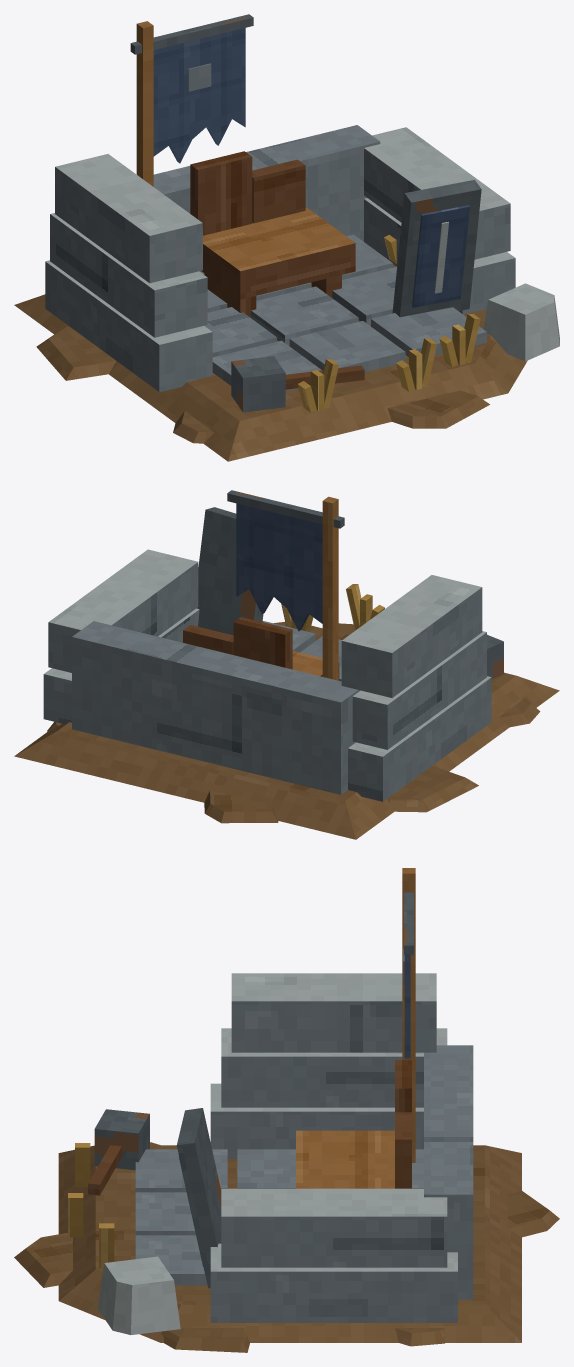
Rendered from corrupted_hero_lair_v2.glb.
3 views of the same model, one above another, from view 1: azimuth 30°, elevation 25°; view 2: azimuth 150°, elevation 25°; view 3: azimuth 270°, elevation 25° (orthographic). The views are drawn at different scales.
Parts seen in each view (by area): view 1: Model; view 2: Model; view 3: Model.
Part boxes in pixels (x1,y1,x2,y2): Model: (14, 14, 559, 461); Model: (14, 490, 559, 839); Model: (14, 868, 559, 1352).
Bounding box in the file's own units: 1.24 × 0.8508 × 1.3.
1 material, 1 textured.
